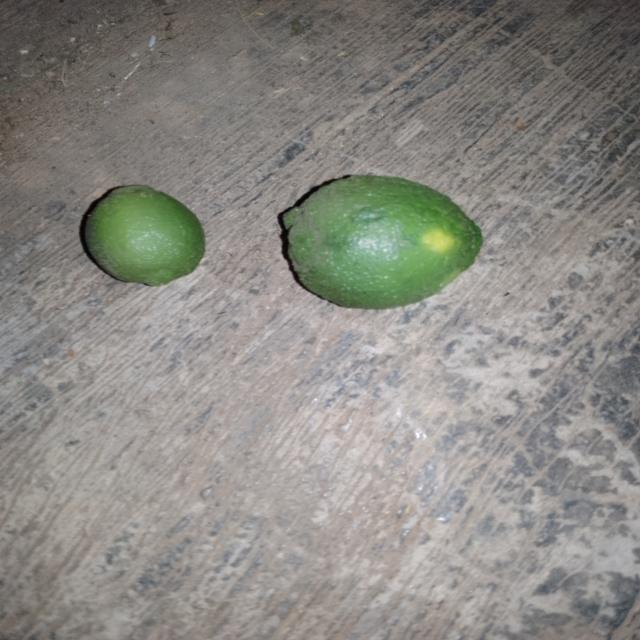Unripe: (271, 165, 508, 352), (74, 170, 205, 316)
